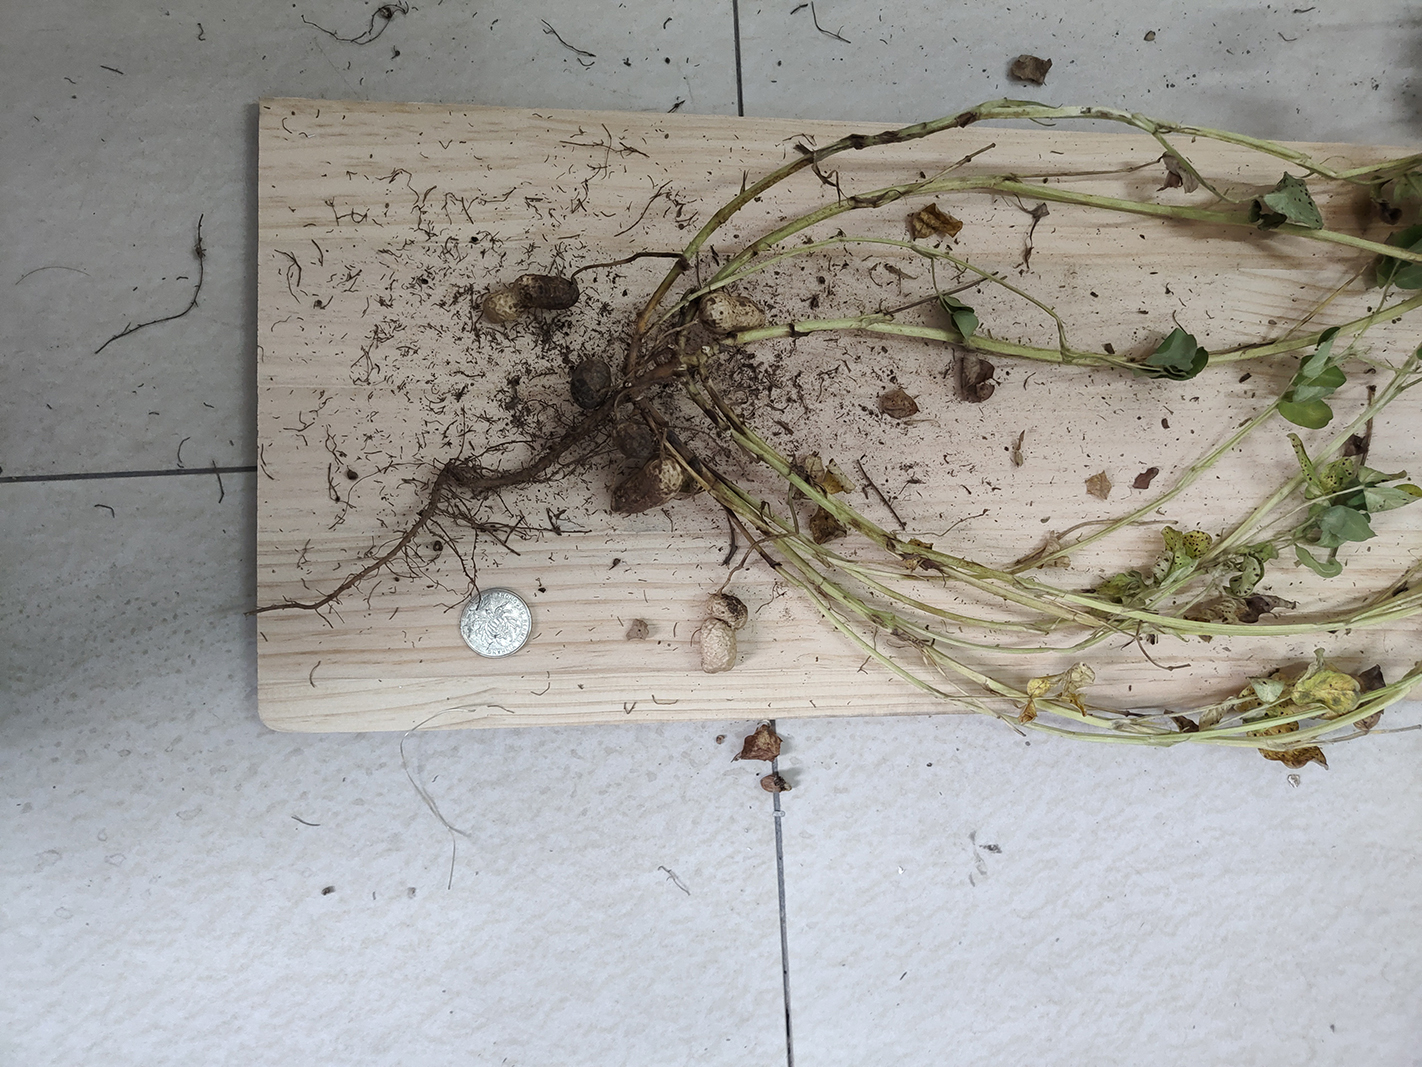h: (698, 592, 749, 674), (700, 293, 768, 332)
l: (485, 272, 580, 323), (608, 453, 684, 516), (571, 356, 611, 408), (617, 424, 640, 453)
